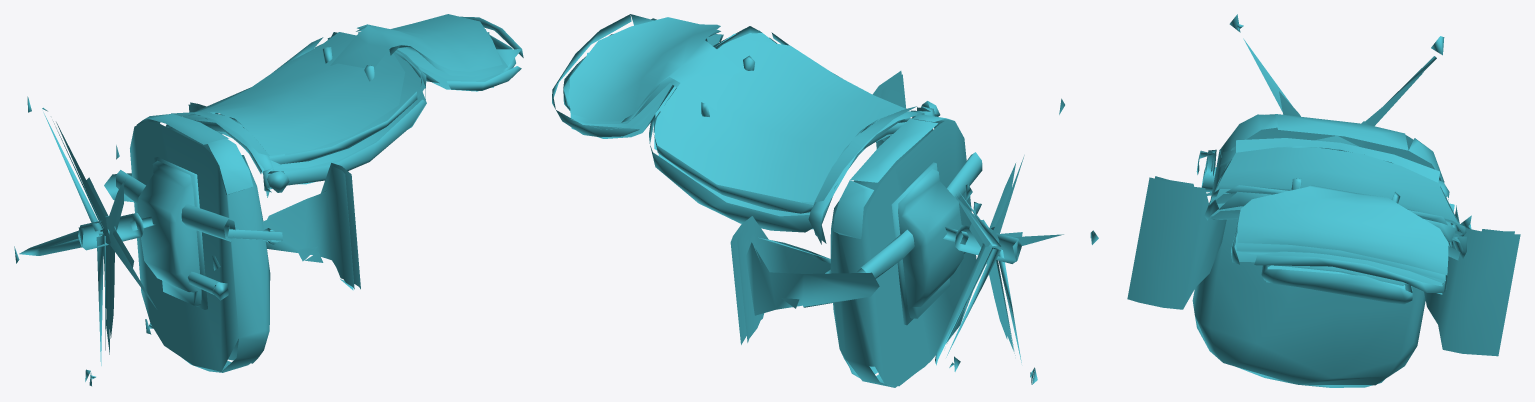
3 views of the same model, side by side, from view 1: azimuth 30°, elevation 25°; view 2: azimuth 150°, elevation 25°; view 3: azimuth 270°, elevation 25° (orthographic). The views are drawn at different scales.
Parts seen in each view (by area): view 1: Renderer Node; view 2: Renderer Node; view 3: Renderer Node.
Part boxes in pixels (box(x1,y1,x2,y2)): Renderer Node: box(14, 14, 523, 386); Renderer Node: box(552, 14, 1098, 387); Renderer Node: box(1127, 14, 1520, 387).
Bounding box in the file's own units: 0.7223 × 0.4419 × 0.5142.
Materials: 1 (1 with a texture image).
